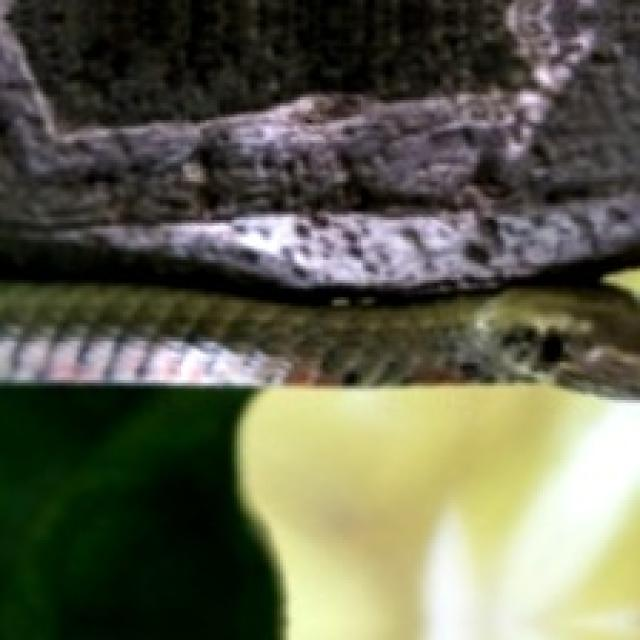paradise tree snake: (0, 283, 637, 394)
